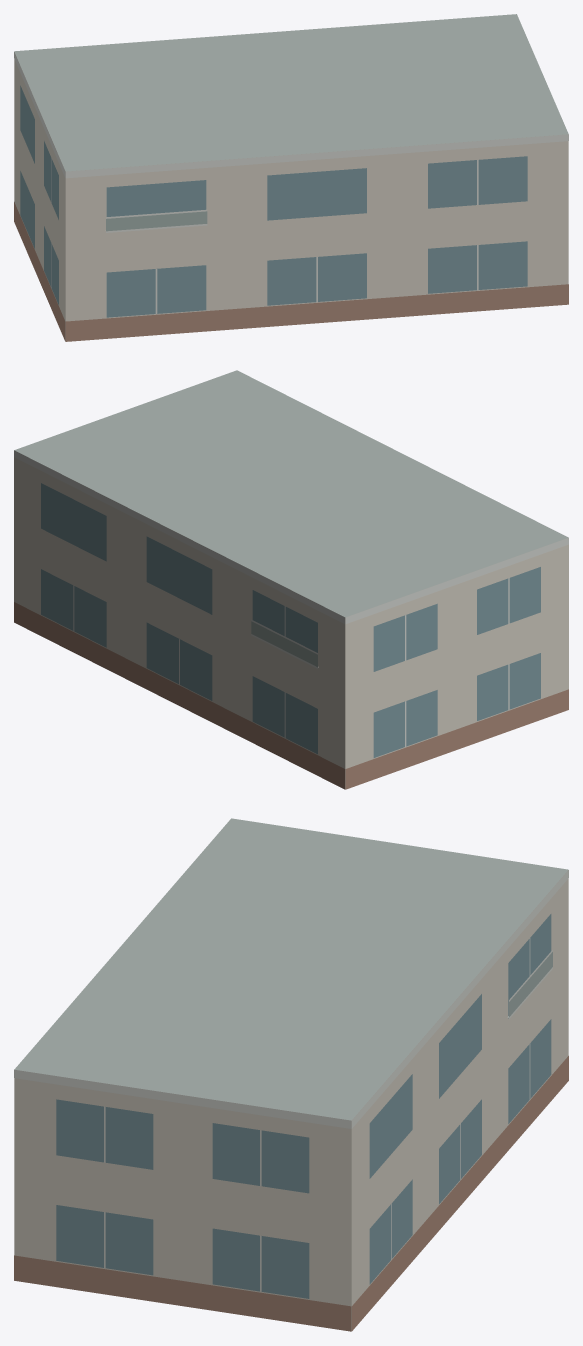
The model's file is survey-upis-32872173.glb.
3 renders of one model, top to bottom at view 1: azimuth 30°, elevation 25°; view 2: azimuth 150°, elevation 25°; view 3: azimuth 270°, elevation 25°, orthographic. The views are drawn at different scales.
Visible parts, largest first — view 1: survey-upis-32872173.tmp; view 2: survey-upis-32872173.tmp; view 3: survey-upis-32872173.tmp.
Boxes of the visible parts, left/top/right/bottom form: survey-upis-32872173.tmp: left=14, top=14, right=568, bottom=341; survey-upis-32872173.tmp: left=14, top=370, right=568, bottom=789; survey-upis-32872173.tmp: left=14, top=818, right=568, bottom=1331.
Bounding box in the file's own units: 18.75 × 6.1 × 14.54.
